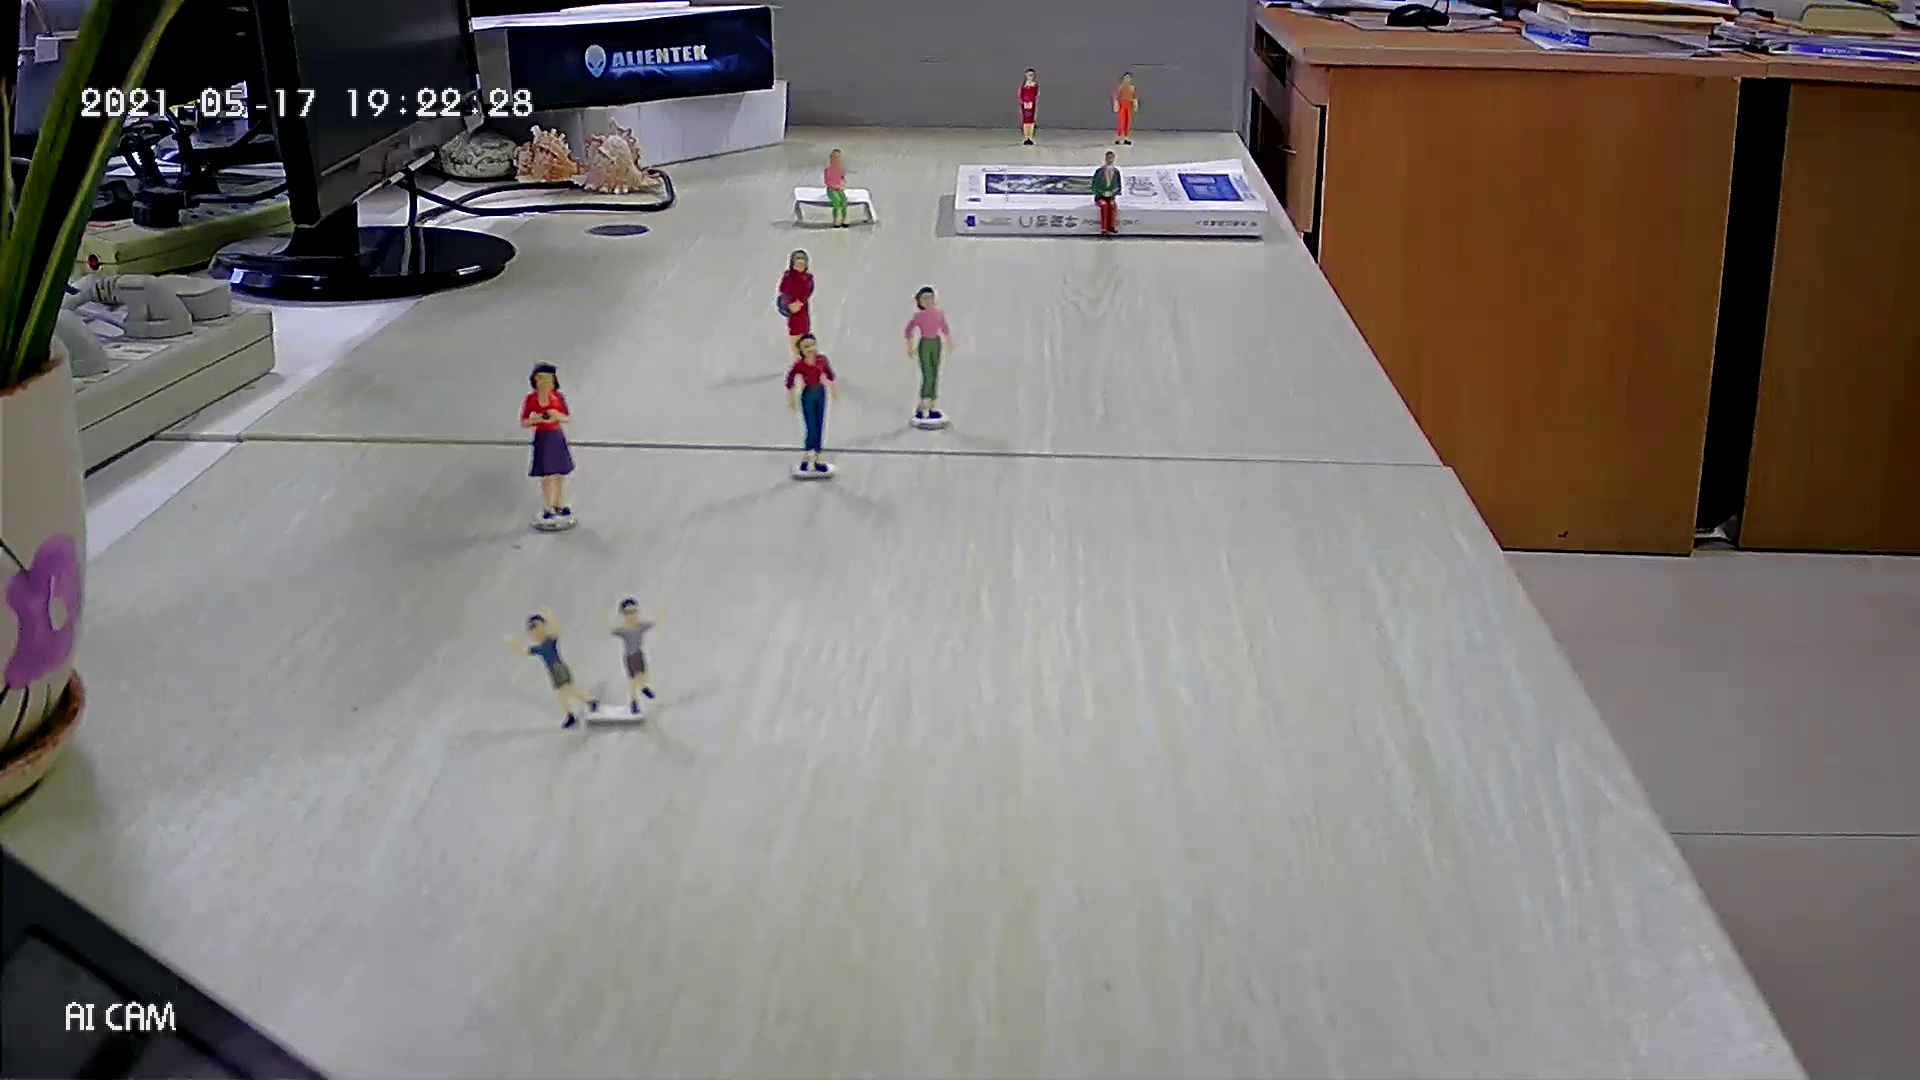person: (497, 610, 605, 732), (517, 358, 579, 524), (593, 596, 671, 714), (785, 334, 843, 478), (903, 284, 957, 420), (775, 246, 819, 376), (1107, 66, 1145, 150), (821, 144, 857, 234), (1091, 150, 1125, 242), (1015, 62, 1043, 148)
